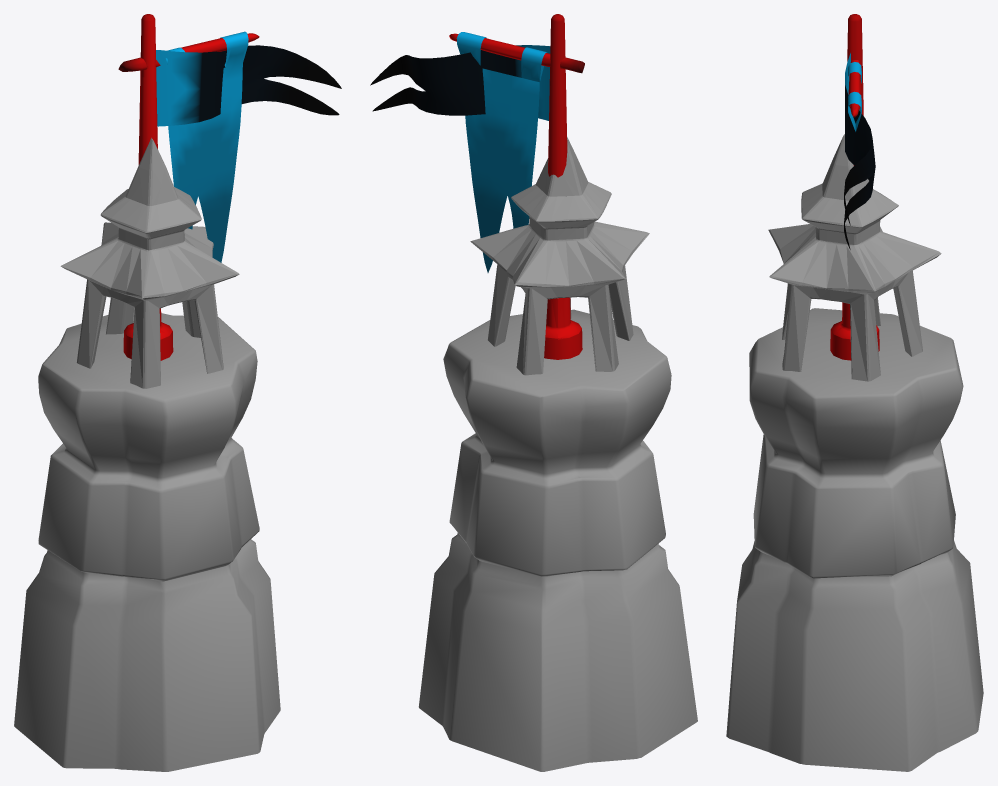
The model's file is BRUME_Poteaux_low.fbx.
The picture shows the model from 3 angles, left to right: view 1: azimuth 30°, elevation 25°; view 2: azimuth 150°, elevation 25°; view 3: azimuth 270°, elevation 25°; orthographic projection.
Parts seen in each view (by area): view 1: BRUME_Poteau_Big, BRUME_Poteau_Big_Detail001, BRUME_Poteau_Big_Detail002, BRUME_Poteau_Big_Detail003; view 2: BRUME_Poteau_Big, BRUME_Poteau_Big_Detail001, BRUME_Poteau_Big_Detail003, BRUME_Poteau_Big_Detail002; view 3: BRUME_Poteau_Big, BRUME_Poteau_Big_Detail001, BRUME_Poteau_Big_Detail002, BRUME_Poteau_Big_Detail003.
Boxes of the visible parts, x1,y1,x2,y2 form: BRUME_Poteau_Big: (14, 308, 280, 771); BRUME_Poteau_Big_Detail001: (60, 138, 239, 388); BRUME_Poteau_Big_Detail002: (124, 14, 341, 360); BRUME_Poteau_Big_Detail003: (118, 31, 259, 354); BRUME_Poteau_Big: (418, 309, 697, 771); BRUME_Poteau_Big_Detail001: (470, 137, 649, 375); BRUME_Poteau_Big_Detail003: (449, 32, 584, 359); BRUME_Poteau_Big_Detail002: (370, 14, 582, 359); BRUME_Poteau_Big: (726, 308, 983, 771); BRUME_Poteau_Big_Detail001: (768, 134, 941, 381); BRUME_Poteau_Big_Detail002: (830, 14, 879, 360); BRUME_Poteau_Big_Detail003: (837, 60, 861, 331).
Bounding box in the file's own units: 213 × 472 × 157.
